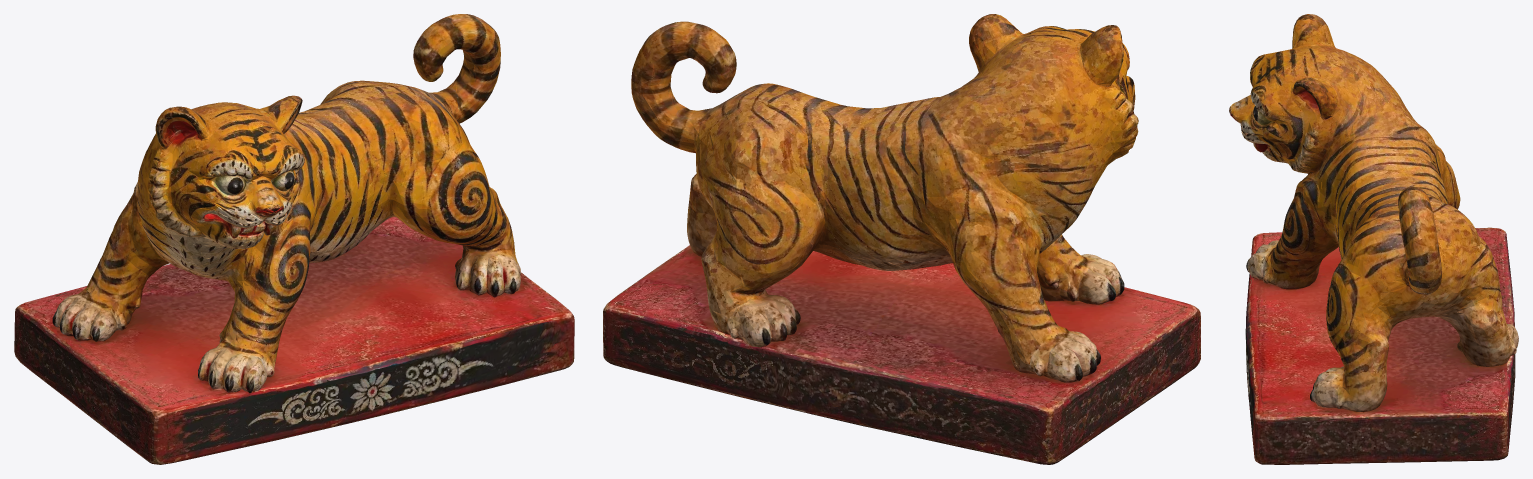
The model's file is huye.glb.
3 renders of one model, left to right at view 1: azimuth 30°, elevation 25°; view 2: azimuth 150°, elevation 25°; view 3: azimuth 270°, elevation 25°, orthographic. The views are drawn at different scales.
Parts seen in each view (by area): view 1: tripo_node_88e2d0a6-c3ee-4813-b358-62bf8f5e18bf; view 2: tripo_node_88e2d0a6-c3ee-4813-b358-62bf8f5e18bf; view 3: tripo_node_88e2d0a6-c3ee-4813-b358-62bf8f5e18bf.
Part boxes in pixels (x1,y1,x2,y2): tripo_node_88e2d0a6-c3ee-4813-b358-62bf8f5e18bf: (14, 14, 574, 464); tripo_node_88e2d0a6-c3ee-4813-b358-62bf8f5e18bf: (603, 14, 1200, 464); tripo_node_88e2d0a6-c3ee-4813-b358-62bf8f5e18bf: (1229, 14, 1518, 464).
Bounding box in the file's own units: 0.9803 × 0.6974 × 0.6274.
1 material, 1 textured.
